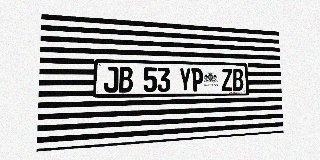3: (157, 67, 170, 92)
5: (144, 67, 157, 92)
B: (119, 67, 133, 92), (232, 69, 243, 91)
J: (104, 66, 118, 93)
P: (191, 68, 203, 91)
Y: (179, 68, 191, 92)
Z: (221, 69, 233, 91)
